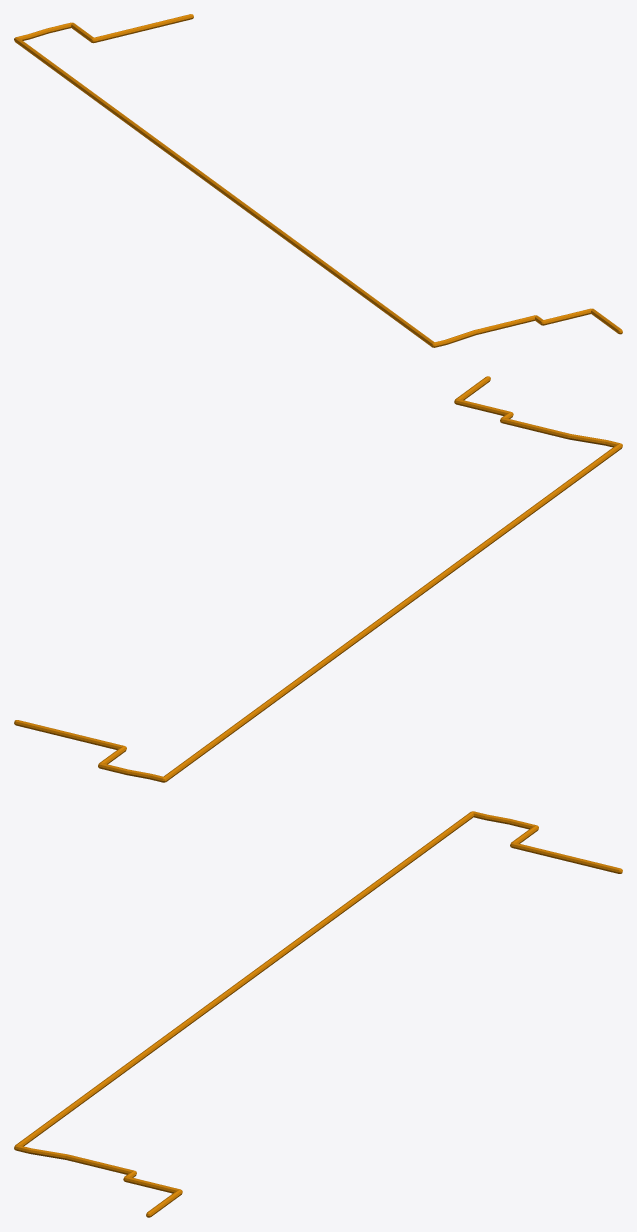
3 renders of one model, top to bottom at view 1: azimuth 30°, elevation 25°; view 2: azimuth 150°, elevation 25°; view 3: azimuth 330°, elevation 25°, orthographic. The views are drawn at different scales.
Bounding box in the file's own units: 651 × 20 × 3210.
